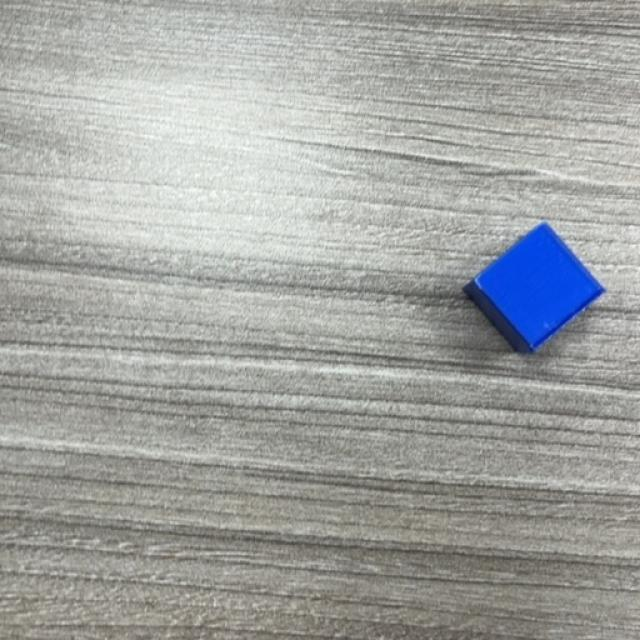Azul: (462, 224, 606, 356)
